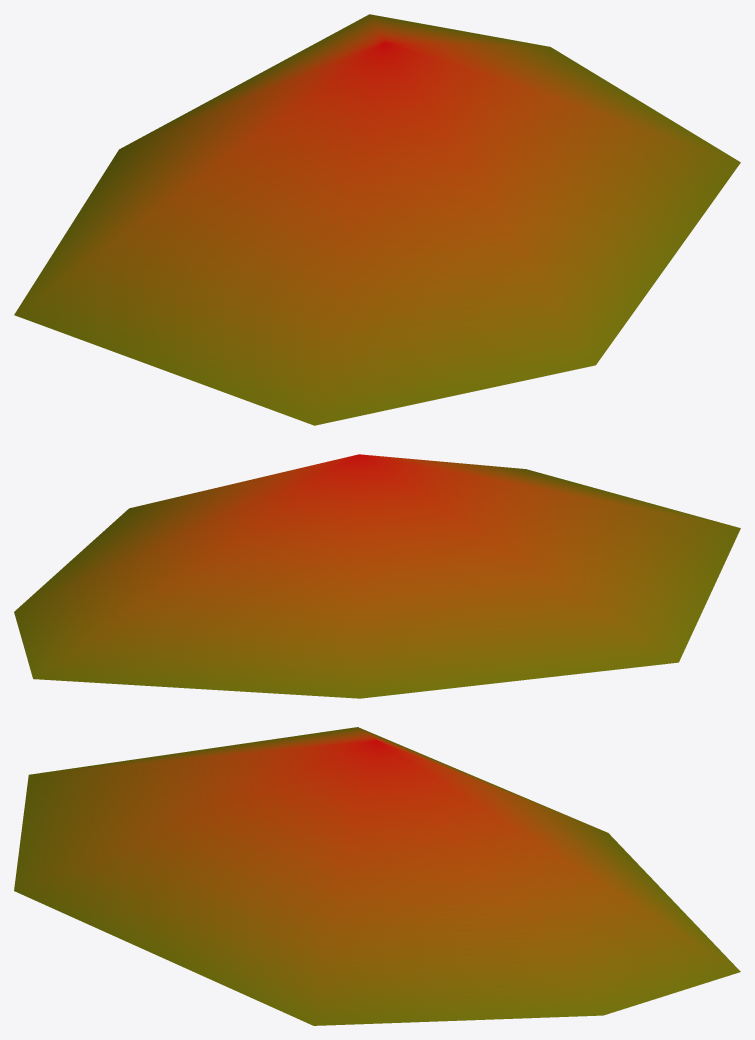
The model's file is Yellow Archangel_LOD4_Var7_wcwmcfvia.fbx.
3 views of the same model, one above another, from view 1: azimuth 30°, elevation 25°; view 2: azimuth 150°, elevation 25°; view 3: azimuth 270°, elevation 25° (orthographic). The views are drawn at different scales.
Visible parts, largest first — view 1: _c2oc_Var7_LOD4; view 2: _c2oc_Var7_LOD4; view 3: _c2oc_Var7_LOD4.
Part boxes in pixels (bbox=[...]): _c2oc_Var7_LOD4: bbox=[14, 14, 740, 425]; _c2oc_Var7_LOD4: bbox=[14, 454, 740, 698]; _c2oc_Var7_LOD4: bbox=[14, 727, 740, 1025].
Size of the model in its own units: 13.21 by 3.08 by 13.58.
